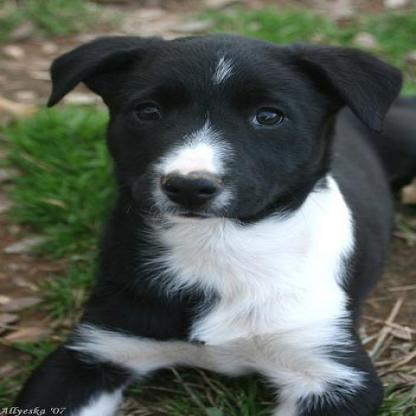collie: (0, 30, 411, 413)
